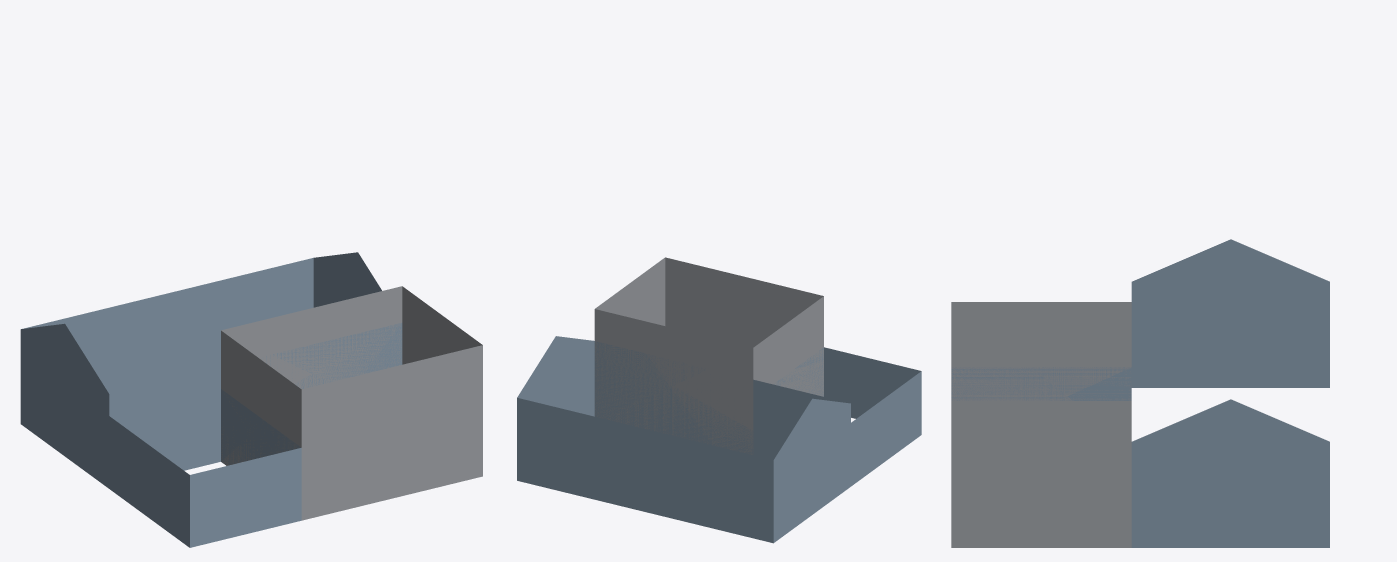
Rendered from Bld_I_med_L5_B.fbx.
The picture shows the model from 3 angles, left to right: view 1: azimuth 30°, elevation 25°; view 2: azimuth 150°, elevation 25°; view 3: azimuth 270°, elevation 25°; orthographic projection. The views are drawn at different scales.
Visible parts, largest first — view 1: Bld_I_med_L5_B_LOD0; view 2: Bld_I_med_L5_B_LOD0; view 3: Bld_I_med_L5_B_LOD0.
Part boxes in pixels (x1,y1,x2,y2): Bld_I_med_L5_B_LOD0: (20, 252, 482, 547); Bld_I_med_L5_B_LOD0: (517, 257, 921, 543); Bld_I_med_L5_B_LOD0: (951, 239, 1329, 547).
Size of what is drawn, in the model's own units: 2630 by 3025 by 2399.
Materials: 1 (1 with a texture image).
